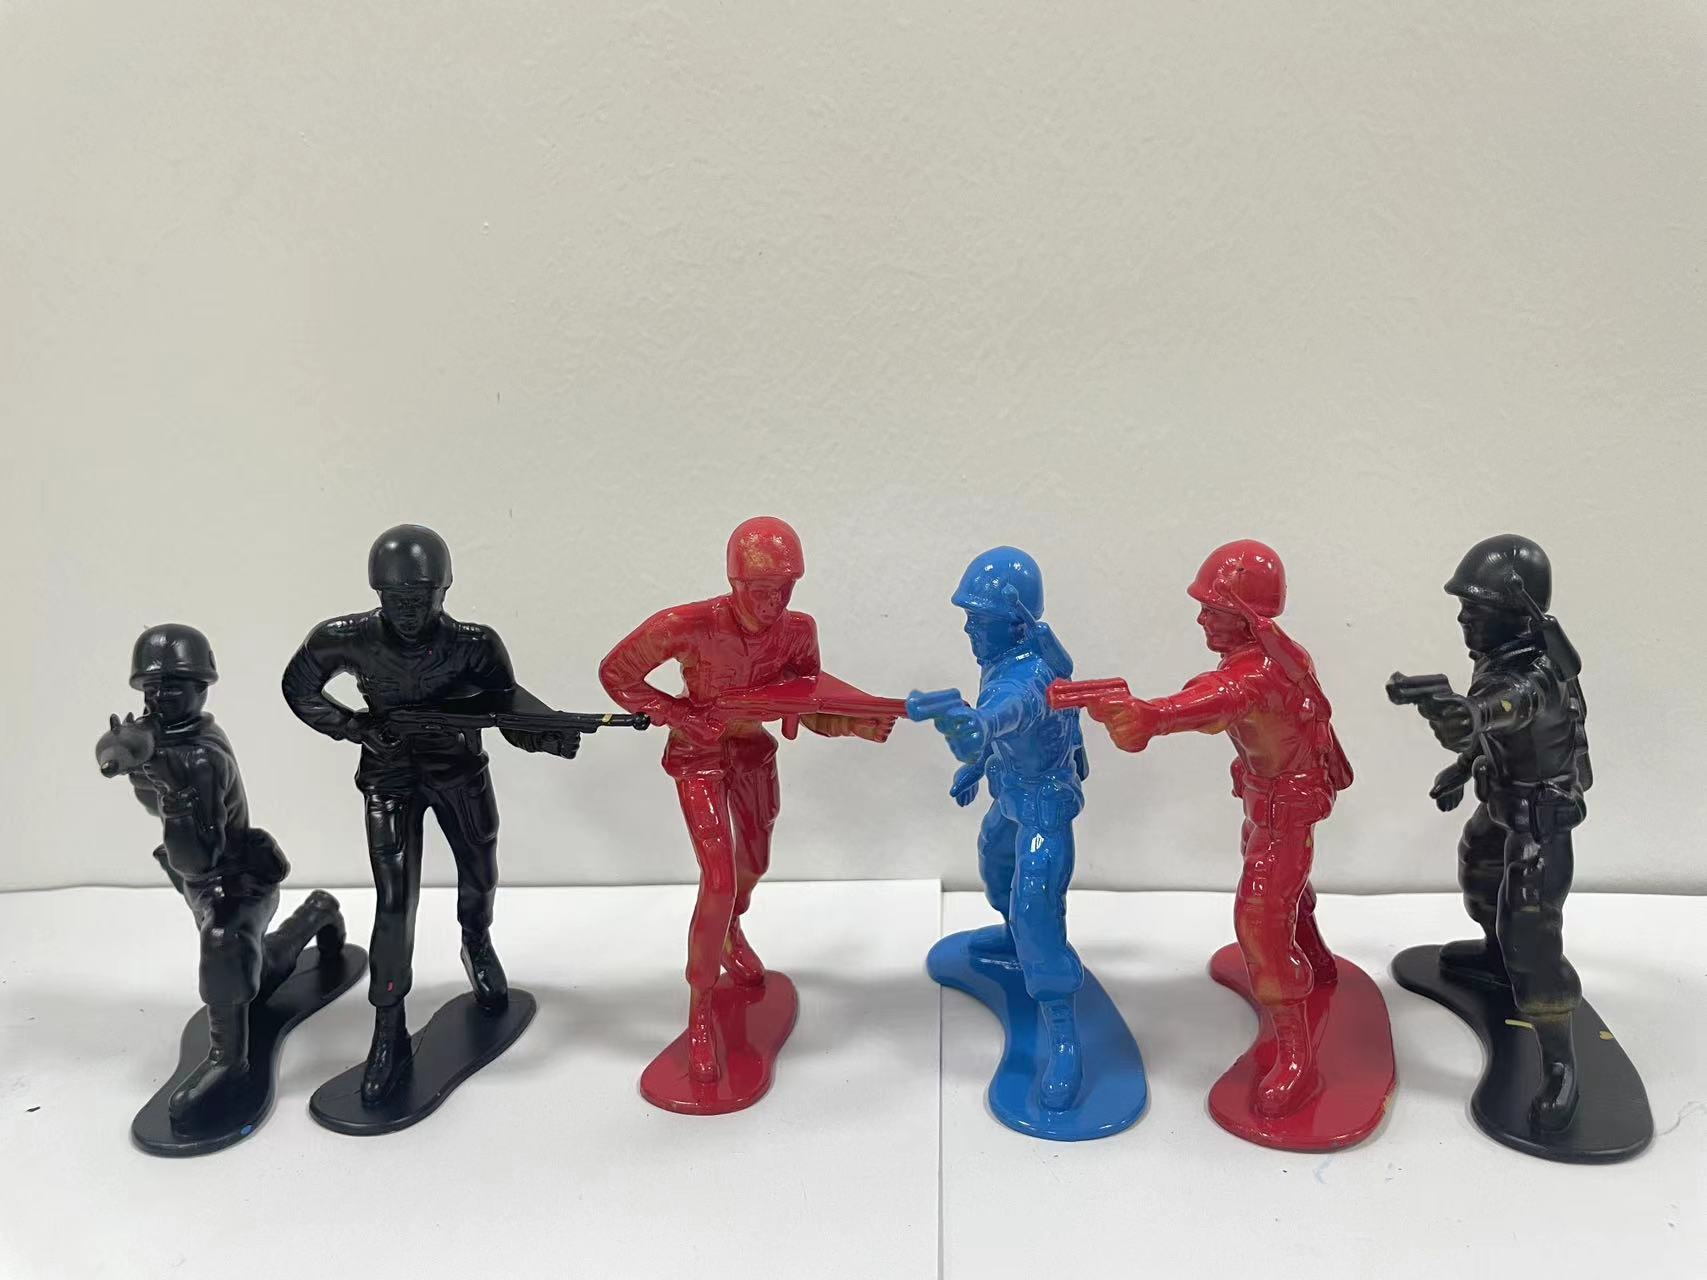black: (1383, 496, 1680, 1191), (284, 500, 573, 1154), (55, 609, 349, 1155)
blue: (919, 536, 1125, 1150)
red: (1097, 515, 1403, 1160), (610, 489, 886, 1113)
